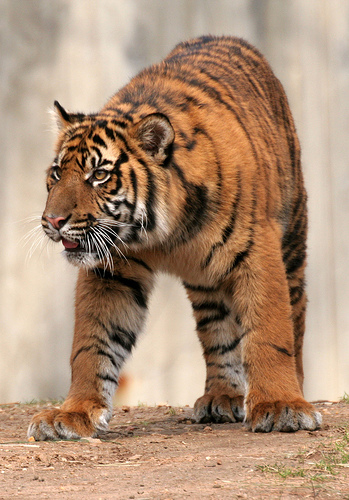Tigre: (32, 16, 333, 426)
